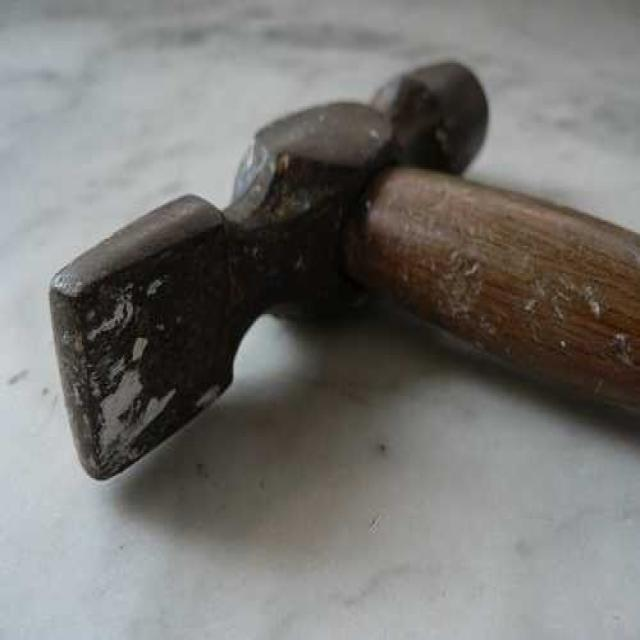hammer: (47, 62, 640, 480)
